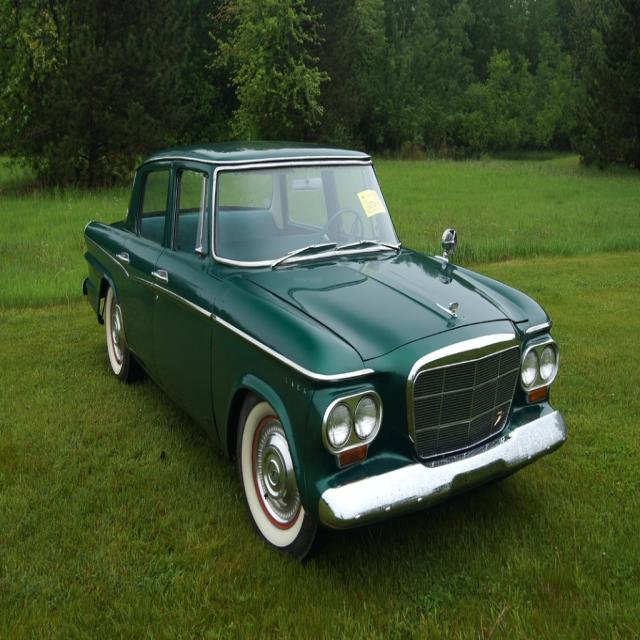car: (80, 141, 565, 564)
